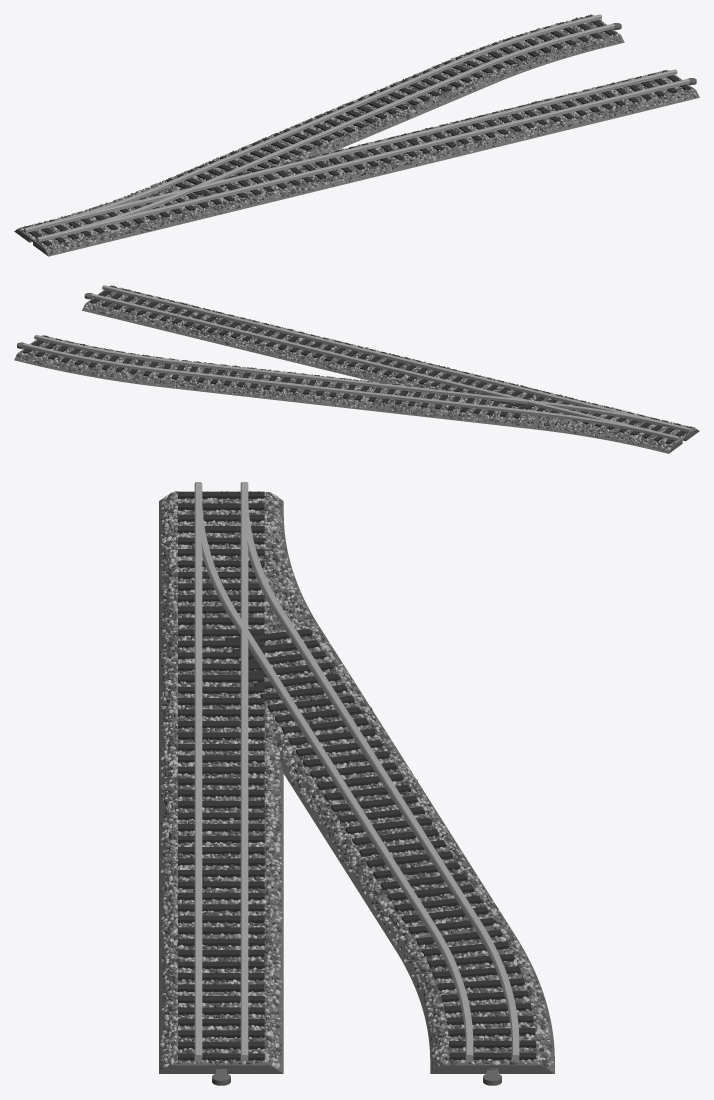
Rendered from Rail_Siding_Left_100.obj.
3 renders of one model, top to bottom at view 1: azimuth 30°, elevation 25°; view 2: azimuth 150°, elevation 25°; view 3: azimuth 270°, elevation 25°, orthographic. The views are drawn at different scales.
Visible parts, largest first — view 1: Rail_Siding_Left_100; view 2: Rail_Siding_Left_100; view 3: Rail_Siding_Left_100.
Part boxes in pixels (x1,y1,x2,y2): Rail_Siding_Left_100: (14,14,699,256); Rail_Siding_Left_100: (14,285,699,453); Rail_Siding_Left_100: (159,482,554,1085).
Size of the model in its own units: 5.1 by 0.0821 by 1.46.
1 material, 1 textured.
